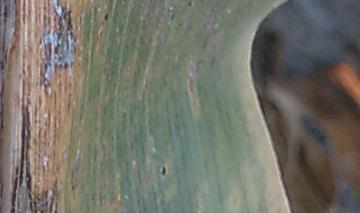tarspot: (2, 4, 9, 17), (159, 166, 167, 177), (103, 12, 110, 22), (169, 13, 175, 22), (187, 1, 194, 8), (1, 60, 5, 70)
